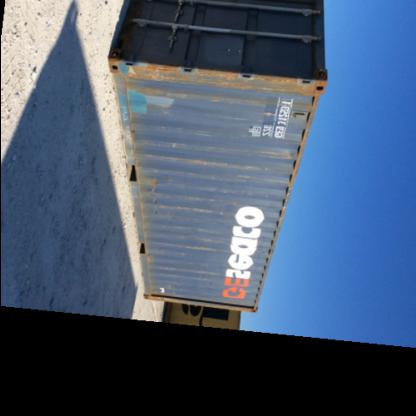Damage: (115, 61, 320, 104), (149, 260, 227, 296), (142, 152, 266, 170), (153, 223, 219, 255), (166, 194, 228, 216), (154, 124, 235, 136), (146, 172, 164, 216)
